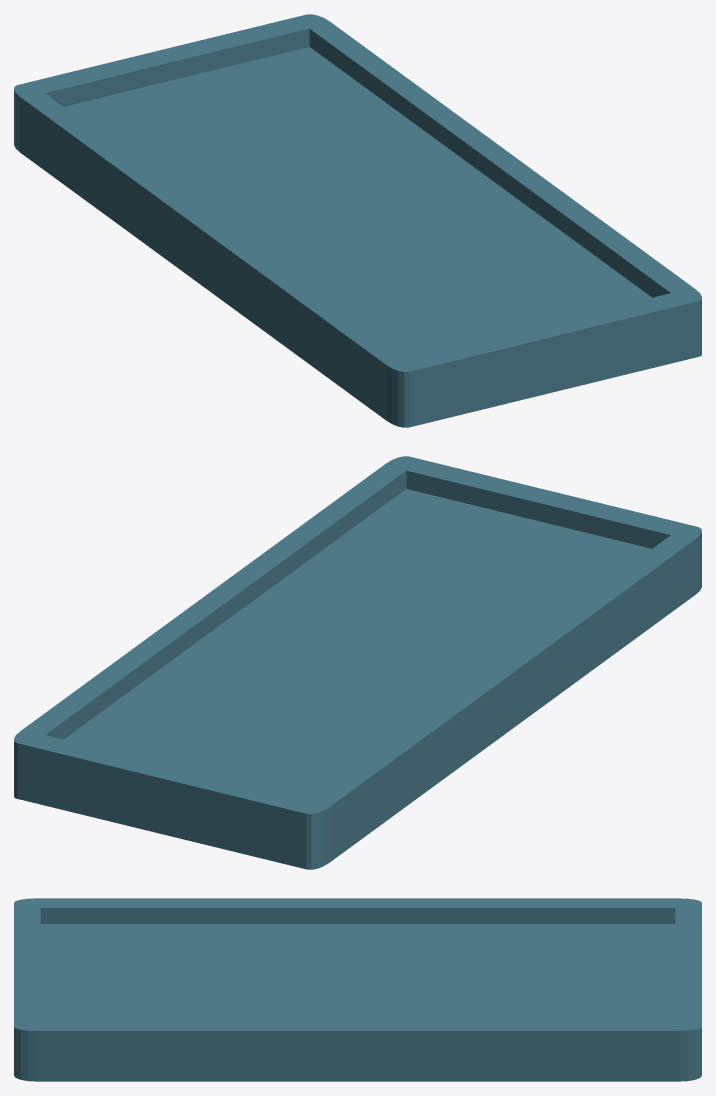
The model's file is BUTTON_BASE.glb.
3 renders of one model, top to bottom at view 1: azimuth 30°, elevation 25°; view 2: azimuth 150°, elevation 25°; view 3: azimuth 270°, elevation 25°, orthographic. The views are drawn at different scales.
Parts seen in each view (by area): view 1: SwitchBase; view 2: SwitchBase; view 3: SwitchBase.
Boxes of the visible parts, box(x1,y1,x2,y2) form: SwitchBase: box(14, 14, 701, 427); SwitchBase: box(14, 456, 701, 869); SwitchBase: box(14, 898, 701, 1081).
Bounding box in the file's own units: 1.04 × 0.1851 × 2.28.
